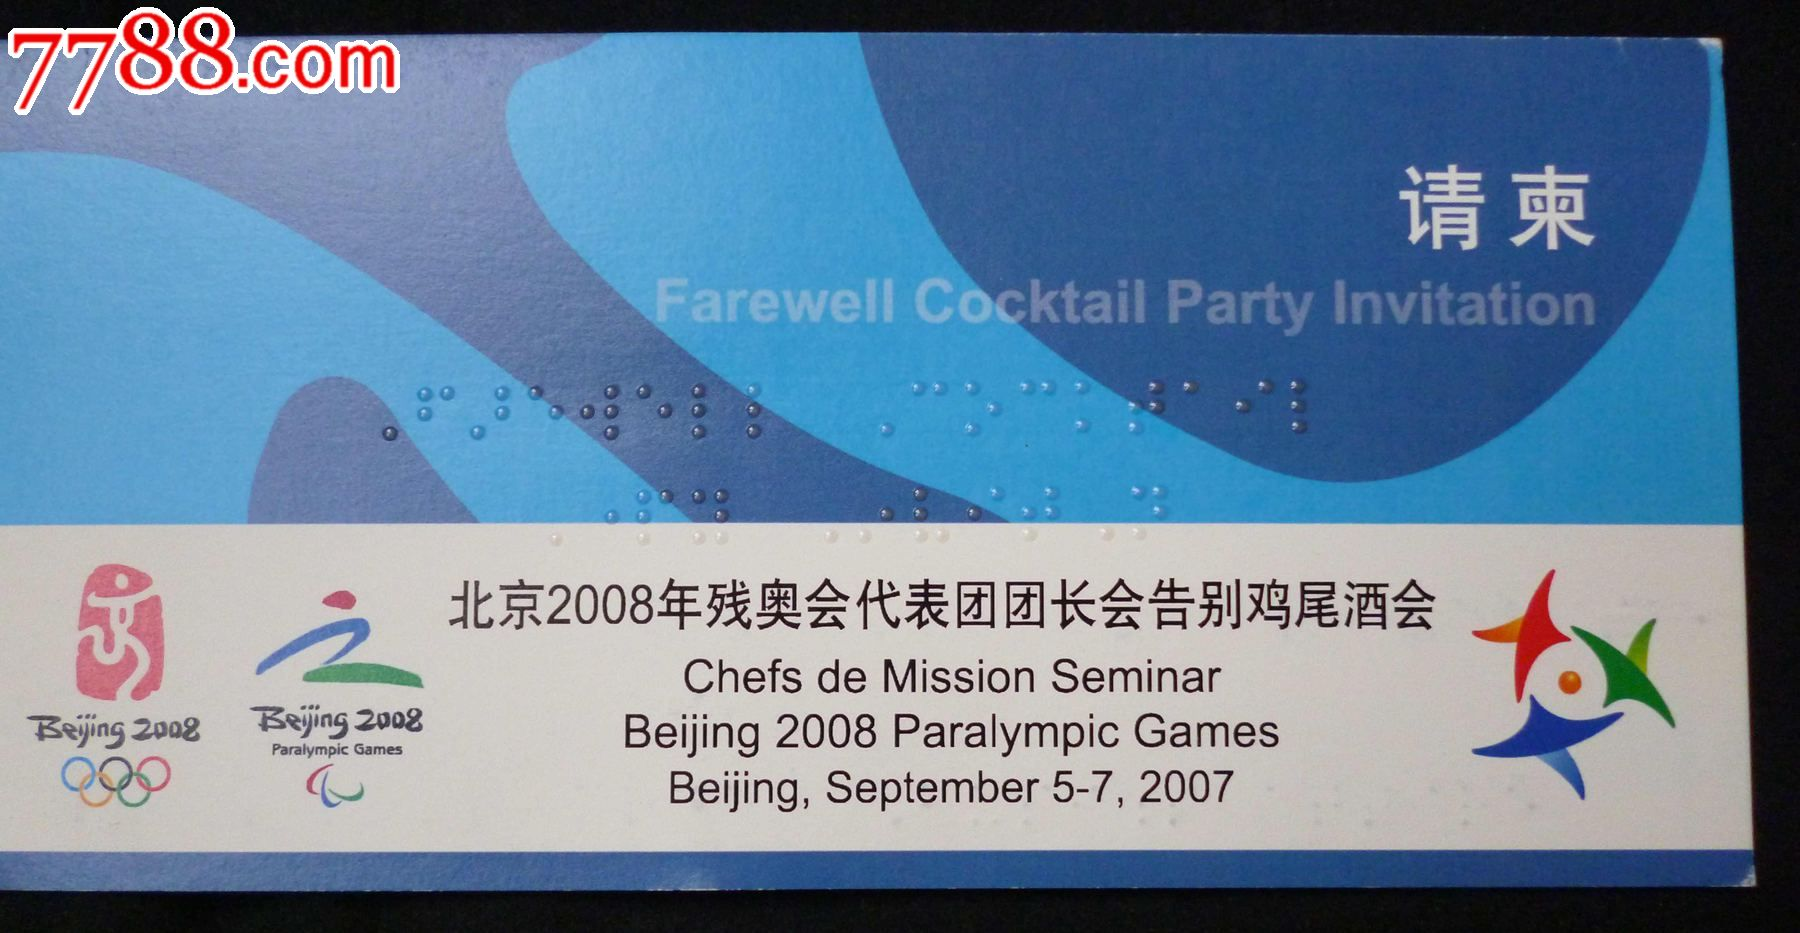Braille: (1288, 372, 1332, 440), (1016, 374, 1059, 442), (1180, 375, 1223, 442), (1073, 378, 1118, 440), (519, 486, 563, 549), (1233, 375, 1274, 442), (799, 481, 841, 547), (747, 378, 789, 443), (858, 378, 899, 443), (966, 482, 1008, 546), (1075, 483, 1116, 546), (358, 382, 400, 443), (579, 381, 621, 442), (1127, 376, 1166, 440), (690, 381, 730, 443), (468, 384, 510, 443), (633, 489, 675, 549), (634, 381, 673, 444), (910, 378, 949, 440), (964, 378, 1003, 440), (911, 482, 951, 544), (690, 486, 729, 547), (578, 489, 620, 547), (1129, 482, 1169, 541), (1020, 484, 1061, 541), (857, 482, 895, 543), (416, 383, 454, 443), (526, 383, 563, 443)
